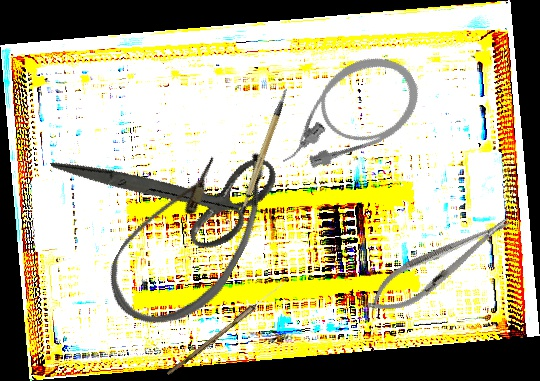Cannula: (94, 116, 289, 349), (257, 41, 433, 187)
Iris Scissors: (50, 86, 293, 293)
Needle Holder: (358, 204, 521, 326)
Scalpel Handle: (222, 87, 308, 216)
Surgical Spoon: (166, 278, 287, 379)
